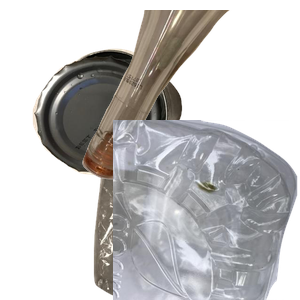glass: (80, 10, 300, 182)
metal: (30, 46, 205, 215)
plastic: (113, 120, 300, 300)
trash: (70, 120, 256, 300)
